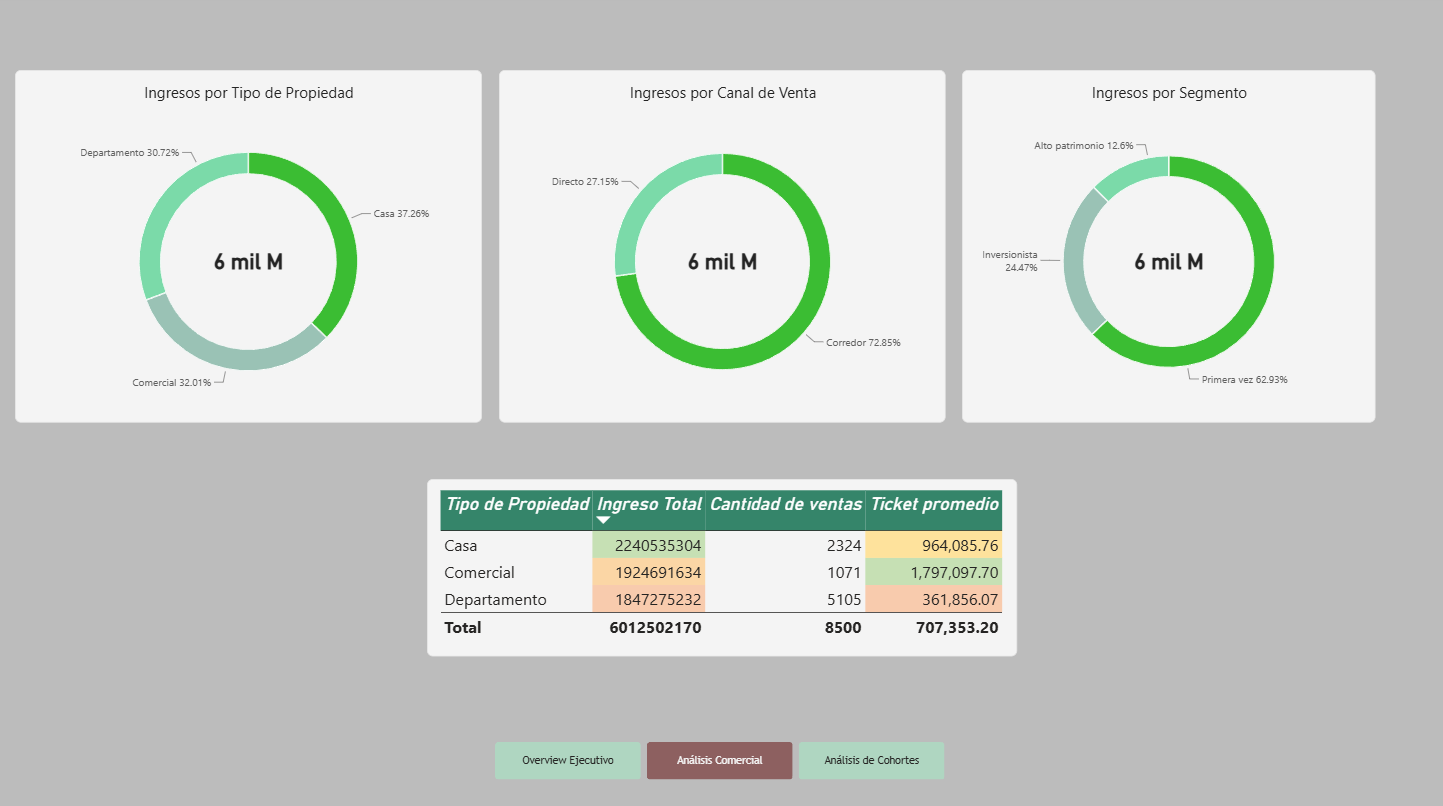

The dashboard page shown, as its layout file describes it:
{"tool":"powerbi","page":{"name":"Análisis Comercial","canvas":[1920,1080],"ordinal":1},"visuals":[{"type":"donutChart","title":"Ingresos por Tipo de Propiedad","fields":{"Category":["TB_Hecho_Ventas_Propiedades.tipo_propiedad"],"Y":["TB_Hecho_Ventas_Propiedades.Ingreso Total"]},"box":[19.4,99.5,620.6,468.6],"z":0},{"type":"donutChart","title":"Ingresos por Segmento","fields":{"Category":["TB_Dim_Clientes.segmento_comprador"],"Y":["TB_Hecho_Ventas_Propiedades.Ingreso Total"]},"box":[1280,99.5,550.2,468.6],"z":1000},{"type":"donutChart","title":"Ingresos por Canal de Venta","fields":{"Category":["TB_Hecho_Ventas_Propiedades.canal_venta"],"Y":["TB_Hecho_Ventas_Propiedades.Ingreso Total"]},"box":[663.5,99.5,594.4,468.6],"z":2000},{"type":"tableEx","fields":{"Values":["TB_Hecho_Ventas_Propiedades.tipo_propiedad","TB_Hecho_Ventas_Propiedades.Ingreso Total","TB_Hecho_Ventas_Propiedades.Cantidad de ventas","TB_Hecho_Ventas_Propiedades.Ticket promedio"]},"box":[568.1,644.1,785.1,236.4],"z":3000},{"type":"pageNavigator","box":[658,993.9,600,50],"z":4000}]}

Visuals, with their boxes in screenshot pixels (x1, y1, x2, y2), scaled from the page's 1920x1080 canvas onto the 1443x806 screenshot:
"Ingresos por Tipo de Propiedad" donutChart: [x1=15, y1=74, x2=481, y2=424]
"Ingresos por Segmento" donutChart: [x1=962, y1=74, x2=1376, y2=424]
"Ingresos por Canal de Venta" donutChart: [x1=499, y1=74, x2=945, y2=424]
tableEx - TB_Hecho_Ventas_Propiedades.tipo_propiedad x TB_Hecho_Ventas_Propiedades.Ingreso Total: [x1=427, y1=481, x2=1017, y2=657]
pageNavigator: [x1=495, y1=742, x2=945, y2=779]
